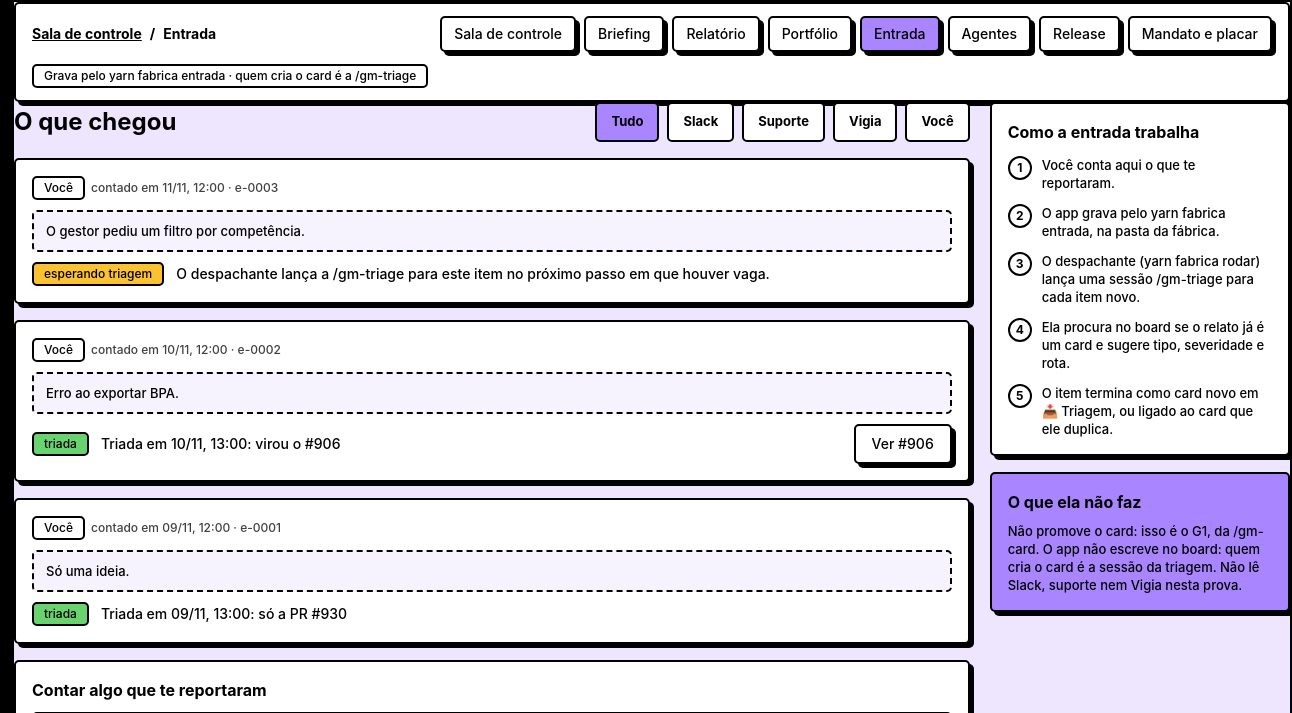
Test: Entrada · a lista › Slack, Suporte e Vigia dizem que a fábrica não lê; Você mostra os itens
The image size is (1292, 713).
Click the button "Slack" at (701, 122), box [667,102,734,142]
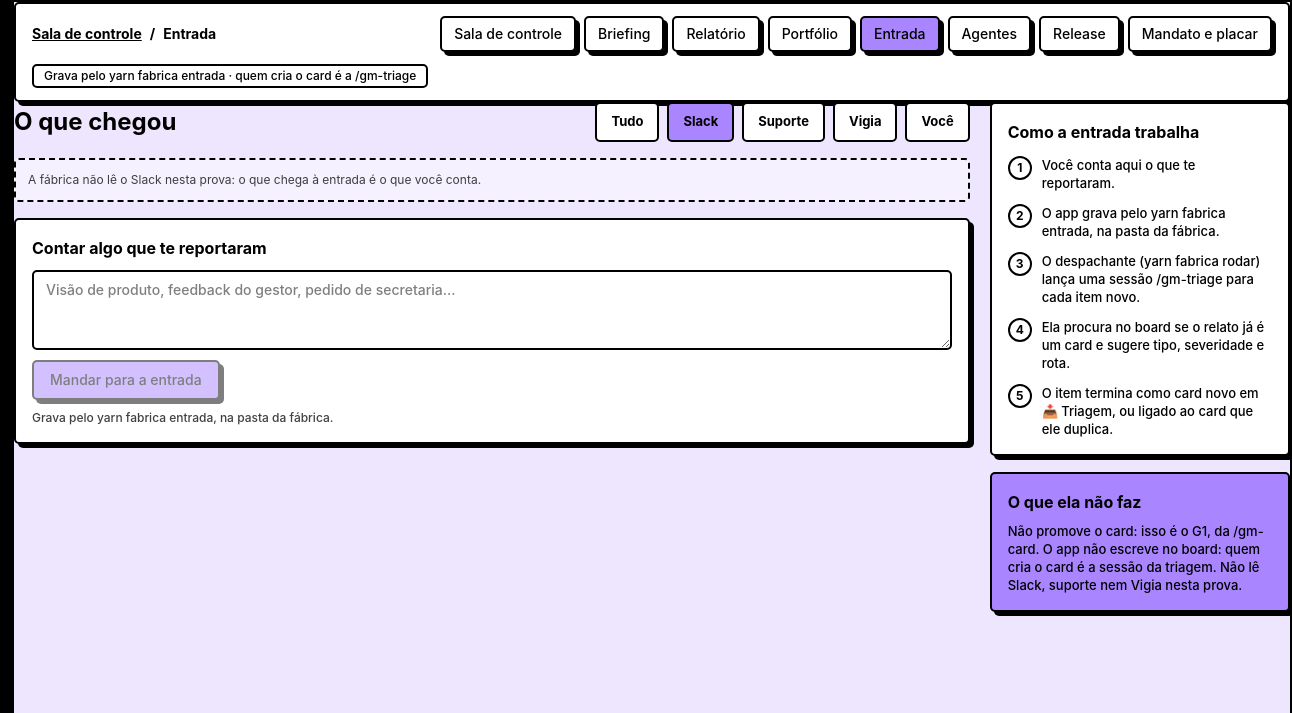
Now no elements with test id "fabrica-entrada-item" are shown
Click the button "Suporte" at (784, 122), box [742,102,825,142]
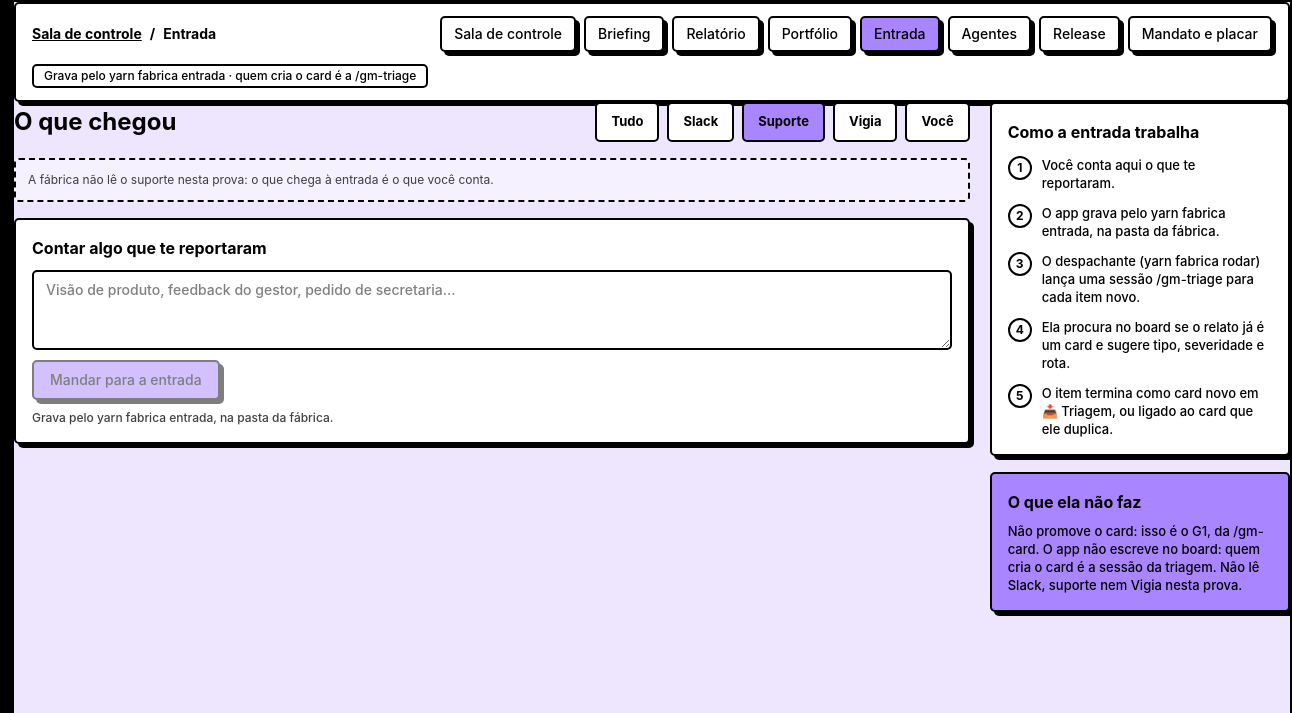
Click the button "Vigia" at (865, 122), box [833,102,897,142]
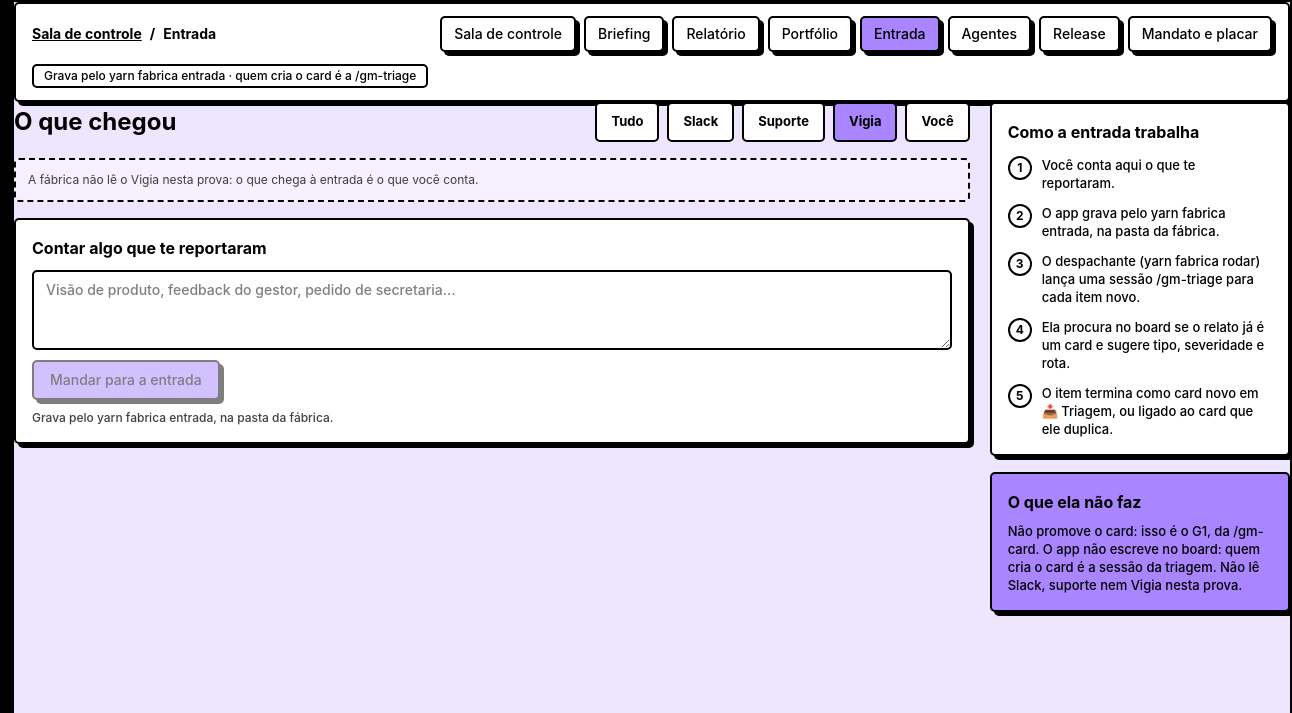
Click the button with test id "fabrica-entrada-fonte-voce" at (938, 122), box [905,102,970,142]
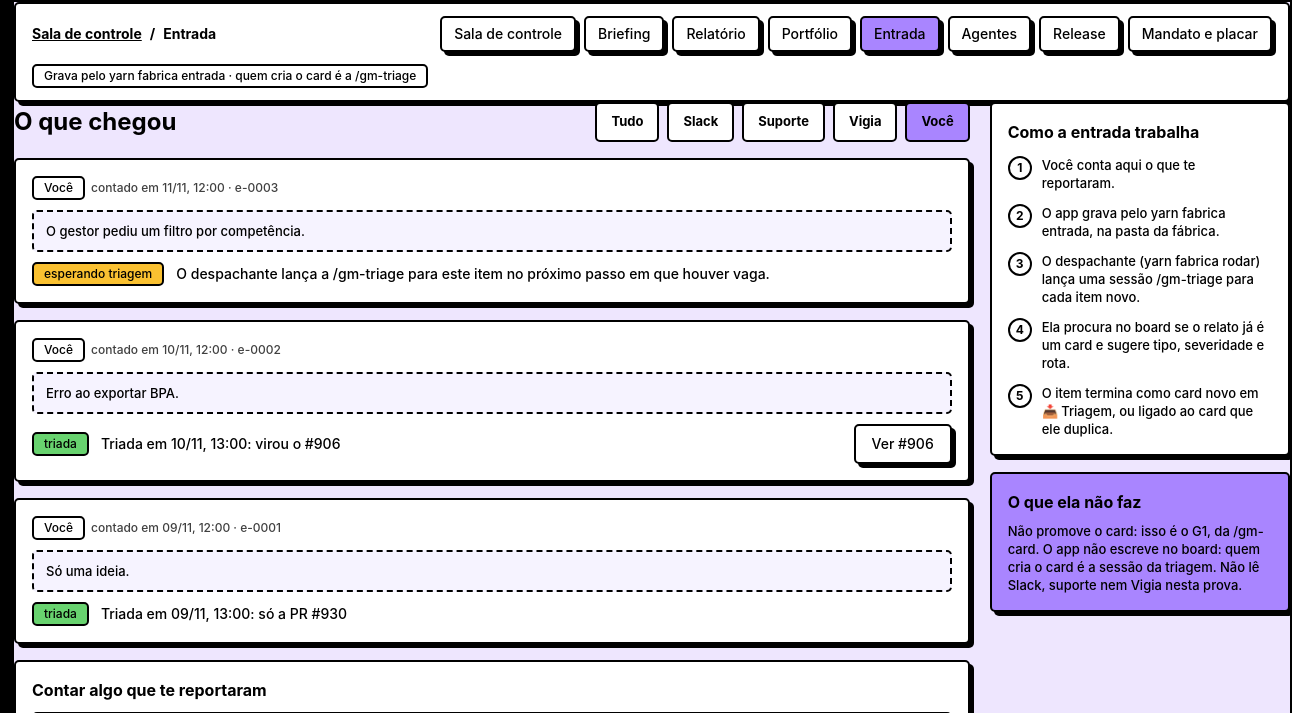
Now the number of elements with test id "fabrica-entrada-item" is 3, box [14,158,970,304]; [14,320,970,482]; [14,498,970,644]
